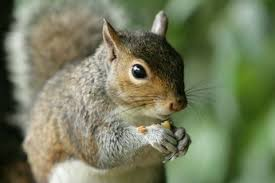squirrel: (28, 8, 190, 181)
